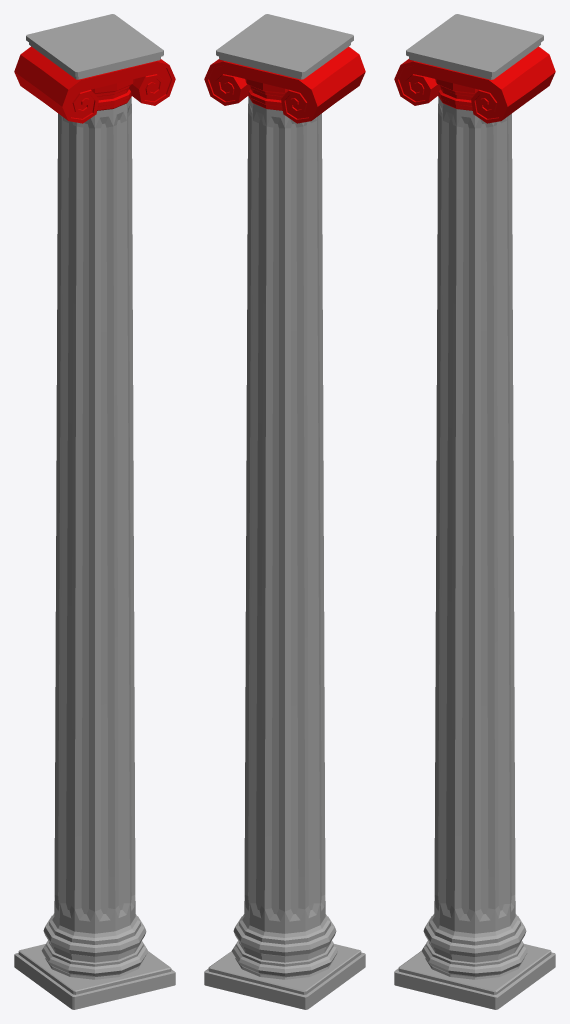
File: SM_Bld_Pillar_Large_03.fbx
3 renders of one model, left to right at view 1: azimuth 30°, elevation 25°; view 2: azimuth 150°, elevation 25°; view 3: azimuth 330°, elevation 25°, orthographic.
Parts seen in each view (by area): view 1: SM_Bld_Pillar_Large_03; view 2: SM_Bld_Pillar_Large_03; view 3: SM_Bld_Pillar_Large_03.
Part boxes in pixels (x1,y1,x2,y2): SM_Bld_Pillar_Large_03: (14, 14, 175, 1009); SM_Bld_Pillar_Large_03: (204, 14, 365, 1009); SM_Bld_Pillar_Large_03: (394, 14, 555, 1009).
Bounding box in the file's own units: 76.75 × 600 × 69.73.
